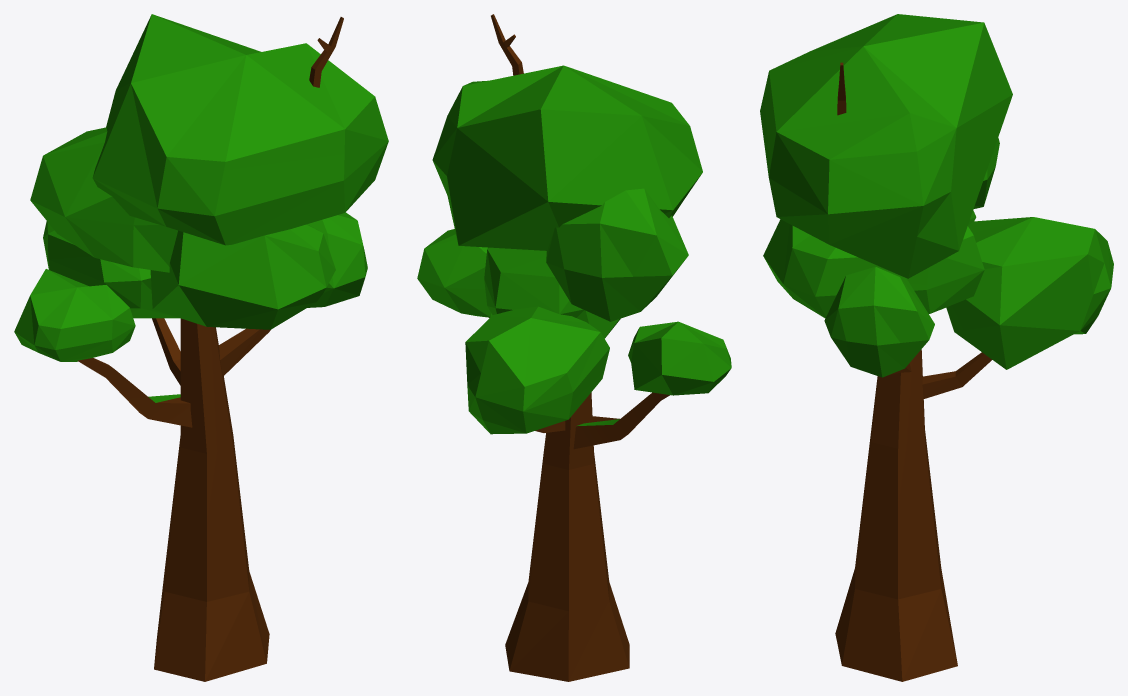
File: Tree_temp_climate_003.FBX
3 views of the same model, side by side, from view 1: azimuth 30°, elevation 25°; view 2: azimuth 150°, elevation 25°; view 3: azimuth 270°, elevation 25° (orthographic). The views are drawn at different scales.
Visible parts, largest first — view 1: Tree_temp_climate_003; view 2: Tree_temp_climate_003; view 3: Tree_temp_climate_003.
Part boxes in pixels (x1=…): Tree_temp_climate_003: x1=14, y1=14, x2=388, y2=681; Tree_temp_climate_003: x1=417, y1=14, x2=731, y2=681; Tree_temp_climate_003: x1=760, y1=14, x2=1113, y2=681.
Bounding box in the file's own units: 257 × 482 × 242.
